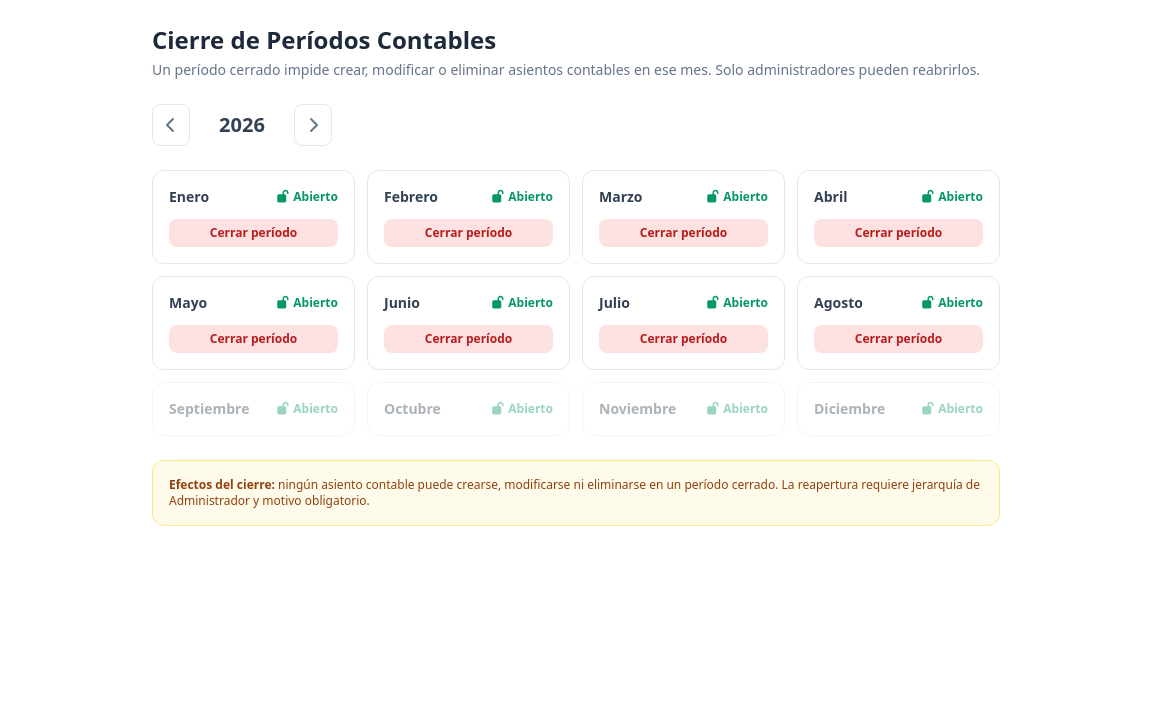
CierrePeriodo — modal cerrar › abre el modal al hacer click en Cerrar período
Click the button "Cerrar período" below "Enero": point(254, 233) [169,219,338,247]
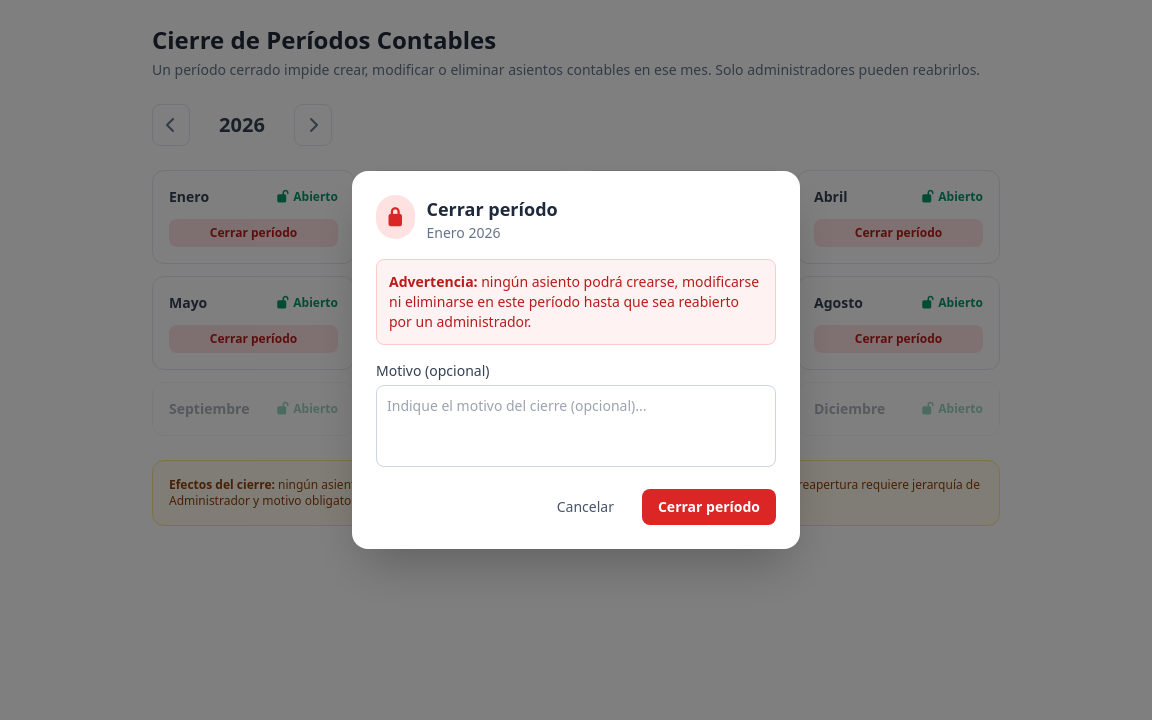
Expected: the text "Advertencia:" is shown, [389,272,478,291]
